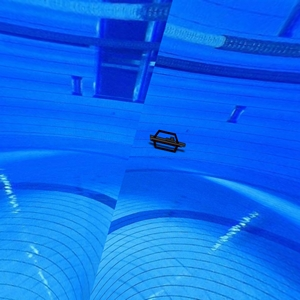submarine: (149, 124, 187, 159)
